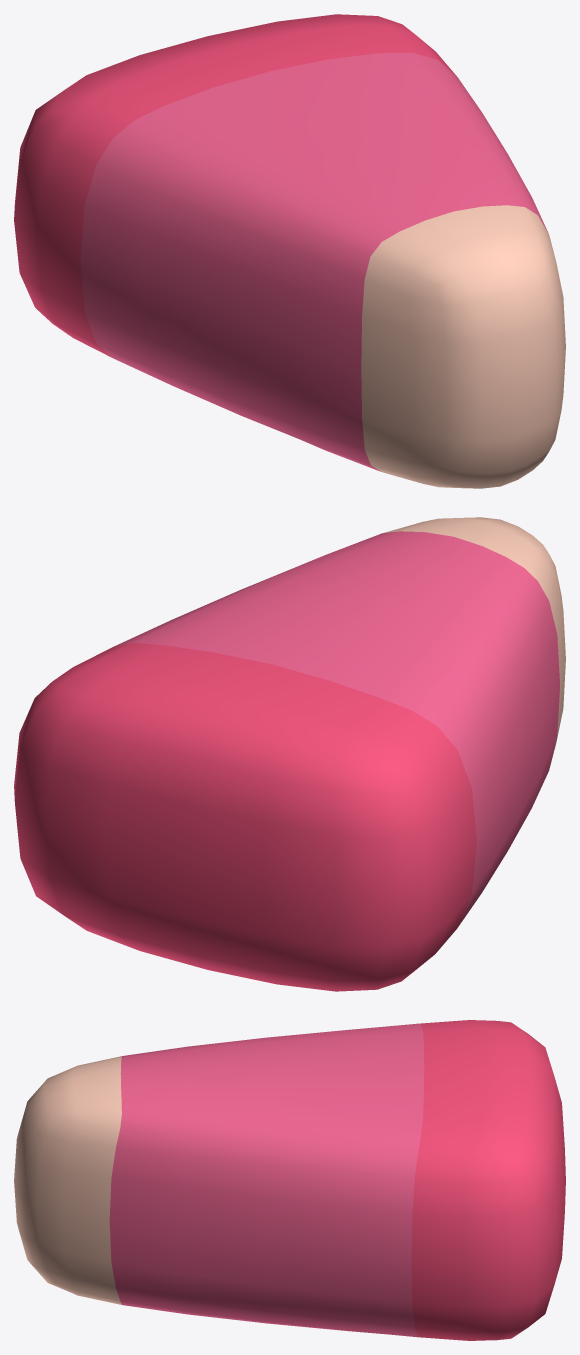
The model's file is Gummy_A_02.fbx.
3 renders of one model, top to bottom at view 1: azimuth 30°, elevation 25°; view 2: azimuth 150°, elevation 25°; view 3: azimuth 270°, elevation 25°, orthographic. The views are drawn at different scales.
Visible parts, largest first — view 1: Gummy_A_02_LOD0; view 2: Gummy_A_02_LOD0; view 3: Gummy_A_02_LOD0.
Part boxes in pixels (x1=…): Gummy_A_02_LOD0: x1=14, y1=14, x2=565, y2=488; Gummy_A_02_LOD0: x1=14, y1=517, x2=565, y2=991; Gummy_A_02_LOD0: x1=14, y1=1020, x2=565, y2=1340.
Size of what is drawn, in the model's own units: 314 by 194 by 433.
